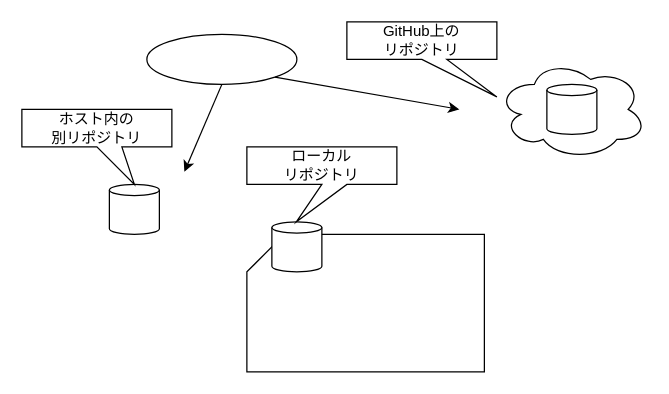
This 669x394 diagram has some shape labels left out. Here are the shapes that lost their labels. From the top down, the box of each, then its label:
(146, 33, 297, 84): リモート リポジトリ
(246, 233, 484, 372): ワークツリー (開発用のディレクトリ)
